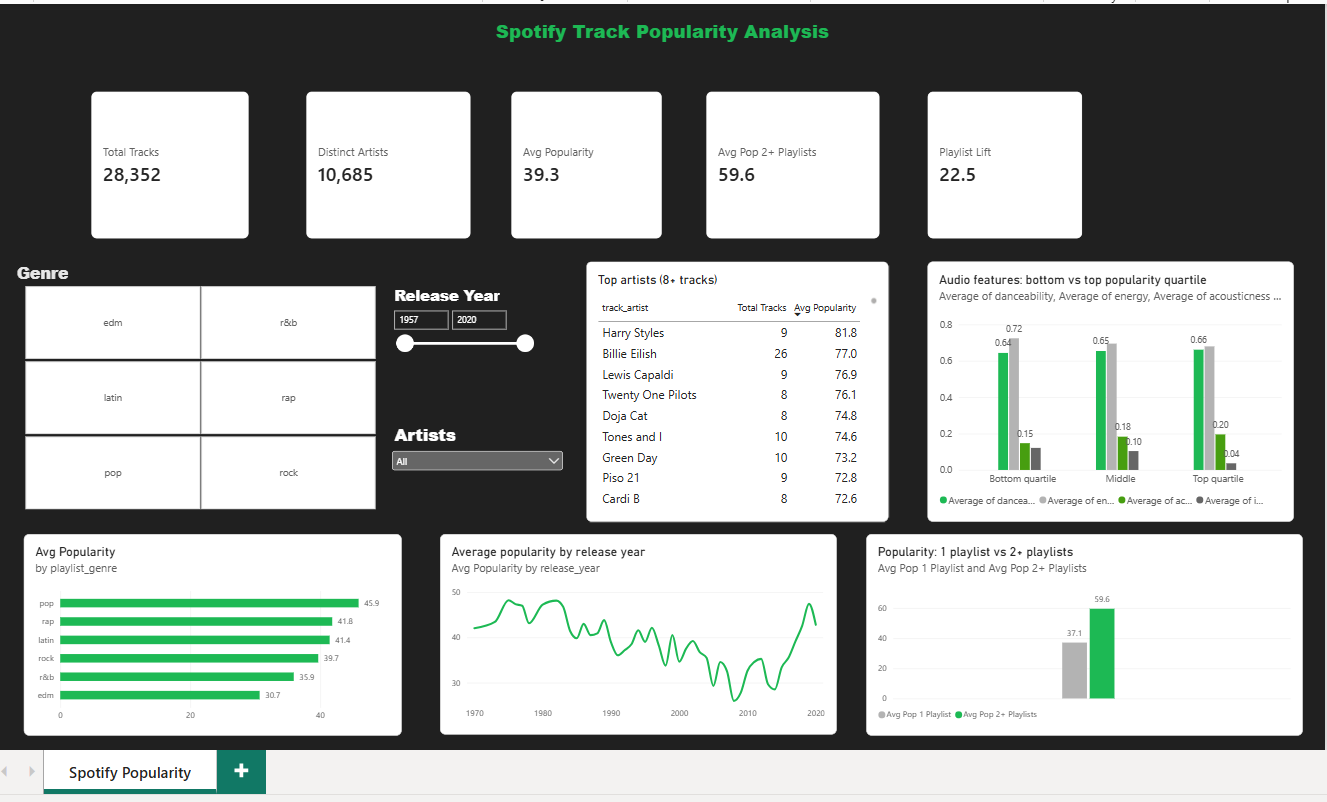

The dashboard page shown, as its layout file describes it:
{"tool":"powerbi","page":{"name":"Spotify Popularity","canvas":[1920,1080],"ordinal":0},"visuals":[{"type":"cardVisual","fields":{"Data":["spotify_tracks.Avg Popularity"]},"box":[740.2,126.7,219,213.5],"z":0},{"type":"cardVisual","fields":{"Data":["spotify_tracks.Playlist Lift"]},"box":[1342.8,126.7,224.4,213.5],"z":1000},{"type":"cardVisual","fields":{"Data":["spotify_tracks.Total Tracks"]},"box":[132.1,126.7,228,213.5],"z":2000},{"type":"cardVisual","fields":{"Data":["spotify_tracks.Avg Pop 2+ Playlists"]},"box":[1022.5,126.7,251.5,213.5],"z":4000},{"type":"cardVisual","fields":{"Data":["spotify_tracks.Distinct Artists"]},"box":[443.4,126.7,238.9,213.5],"z":5000},{"type":"slicer","fields":{"Values":["spotify_tracks.playlist_genre"]},"box":[16.3,372.8,546.5,360.1],"z":6000},{"type":"slicer","fields":{"Values":["spotify_tracks.release_year"]},"box":[562.8,407.2,213.5,146.6],"z":7000},{"type":"slicer","fields":{"Values":["spotify_tracks.track_artist"]},"box":[562.8,606.2,257,126.7],"z":8000},{"type":"clusteredBarChart","fields":{"Category":["spotify_tracks.playlist_genre"],"Y":["spotify_tracks.Avg Popularity"]},"box":[34.4,767.3,547.5,292.3],"z":9000},{"type":"lineChart","title":"Average popularity by release year","fields":{"Category":["spotify_tracks.release_year"],"Y":["spotify_tracks.Avg Popularity"]},"box":[637,767.3,574.3,290.2],"z":10000},{"type":"clusteredColumnChart","title":"Popularity: 1 playlist vs 2+ playlists","fields":{"Y":["spotify_tracks.Avg Pop 1 Playlist","spotify_tracks.Avg Pop 2+ Playlists"]},"box":[1254.1,767.3,631.9,292.3],"z":11000},{"type":"tableEx","title":"Top artists (8+ tracks)","fields":{"Values":["spotify_tracks.track_artist","spotify_tracks.Total Tracks","spotify_tracks.Avg Popularity"]},"box":[848.7,372.8,437.9,376.4],"z":11001},{"type":"clusteredColumnChart","title":"Audio features: bottom vs top popularity quartile","fields":{"Category":["spotify_tracks.Popularity Tier"],"Y":["Avg(spotify_tracks.danceability)","Avg(spotify_tracks.energy)","Avg(spotify_tracks.acousticness)","Avg(spotify_tracks.instrumentalness)"]},"box":[1342.8,372.8,530,377],"z":11002},{"type":"textbox","box":[602.6,19.9,713,213.5],"z":11003}]}

Visuals, with their boxes in screenshot pixels (x1, y1, x2, y2):
cardVisual - spotify_tracks.Avg Popularity: 511/93/661/239
cardVisual - spotify_tracks.Playlist Lift: 922/93/1075/239
cardVisual - spotify_tracks.Total Tracks: 97/93/252/239
cardVisual - spotify_tracks.Avg Pop 2+ Playlists: 704/93/875/239
cardVisual - spotify_tracks.Distinct Artists: 309/93/472/239
slicer - spotify_tracks.playlist_genre: 18/261/391/506
slicer - spotify_tracks.release_year: 391/284/536/384
slicer - spotify_tracks.track_artist: 391/420/566/506
clusteredBarChart - spotify_tracks.playlist_genre x spotify_tracks.Avg Popularity: 30/530/404/729
"Average popularity by release year" lineChart: 441/530/833/728
"Popularity: 1 playlist vs 2+ playlists" clusteredColumnChart: 862/530/1292/729
"Top artists (8+ tracks)" tableEx: 585/261/884/518
"Audio features: bottom vs top popularity quartile" clusteredColumnChart: 922/261/1283/518
textbox: 418/20/904/166
